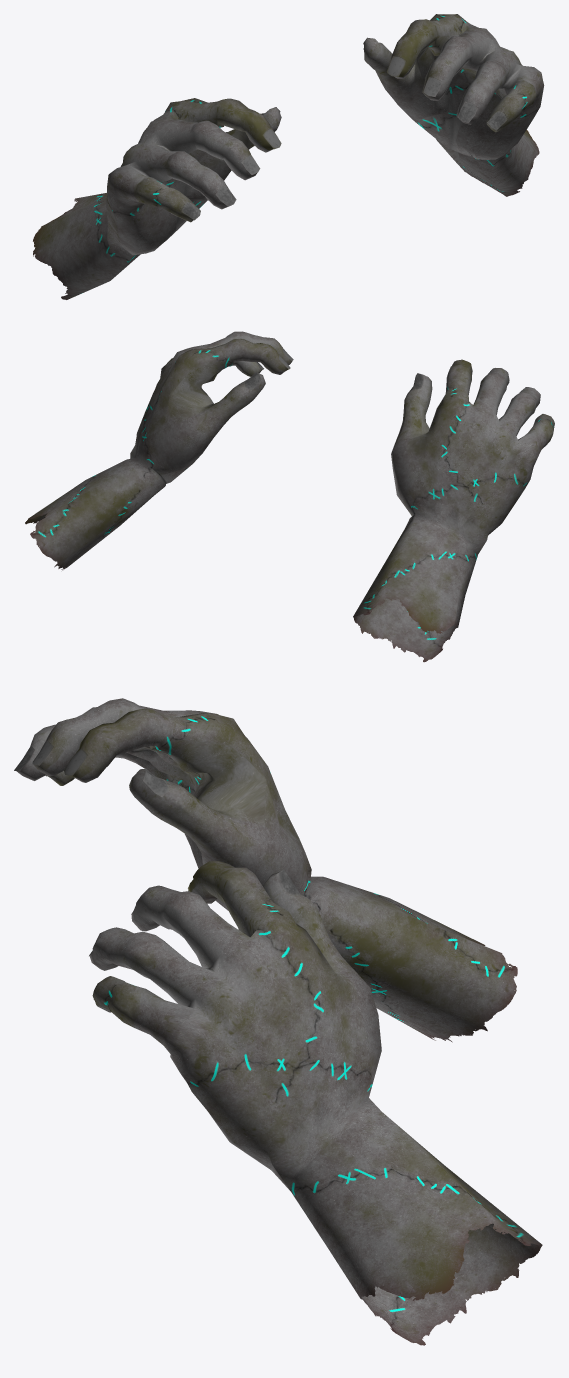
Rendered from stealth_hand_kari.fbx.
3 views of the same model, one above another, from view 1: azimuth 30°, elevation 25°; view 2: azimuth 150°, elevation 25°; view 3: azimuth 270°, elevation 25° (orthographic). The views are drawn at different scales.
Parts seen in each view (by area): view 1: stealth_R, stealth_R1; view 2: stealth_R, stealth_R1; view 3: stealth_R1, stealth_R.
Boxes of the visible parts, left/top/right/bottom form: stealth_R: left=33, top=98, right=281, bottom=299; stealth_R1: left=363, top=14, right=544, bottom=196; stealth_R: left=353, top=359, right=554, bottom=662; stealth_R1: left=25, top=331, right=293, bottom=570; stealth_R1: left=89, top=861, right=542, bottom=1345; stealth_R: left=14, top=698, right=517, bottom=1042.
Bounding box in the file's own units: 45.66 × 22 × 28.38.
